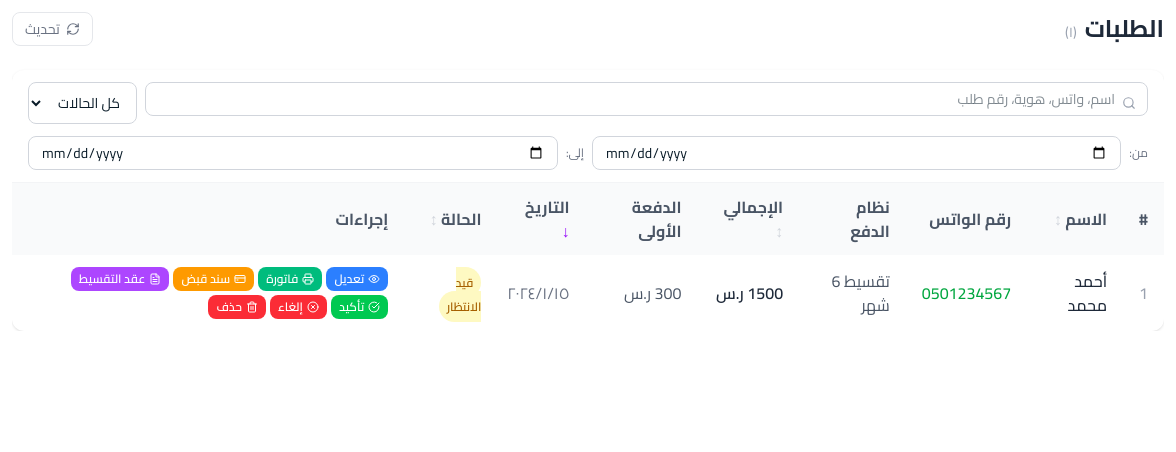
Test: OrdersPage — Search وFilters › زر مسح الفلاتر يعيد ضبط كل الفلاتر
The width and height of the screenshot is (1176, 452).
Check: the text "أحمد محمد" is shown, box left=1027, top=255, right=1123, bottom=331
Select "قيد الانتظار" in the dropdown at (82, 103), box left=28, top=82, right=137, bottom=124
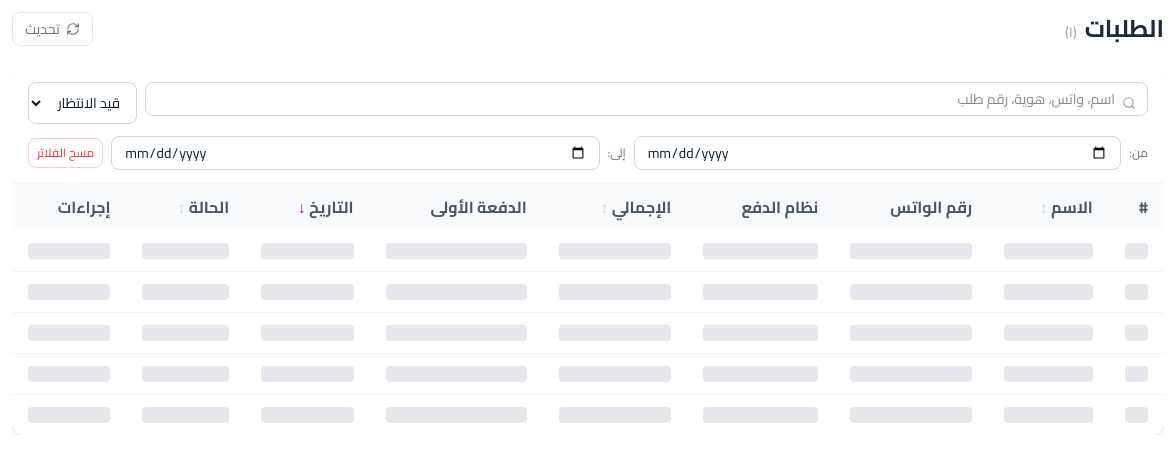
Check: the button "مسح الفلاتر" is shown
Click the button "مسح الفلاتر" at (66, 153), box left=28, top=138, right=103, bottom=168
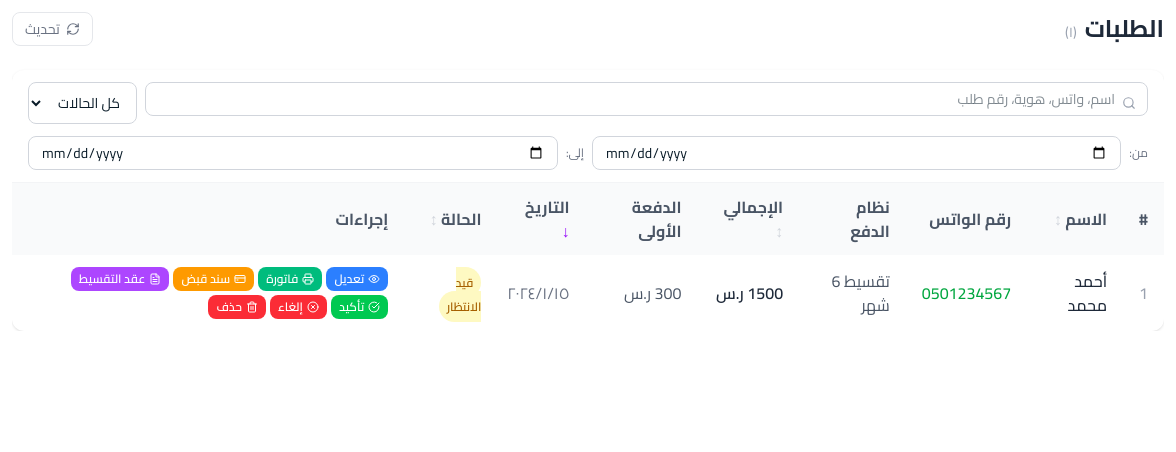
Check: the button "مسح الفلاتر" is gone
